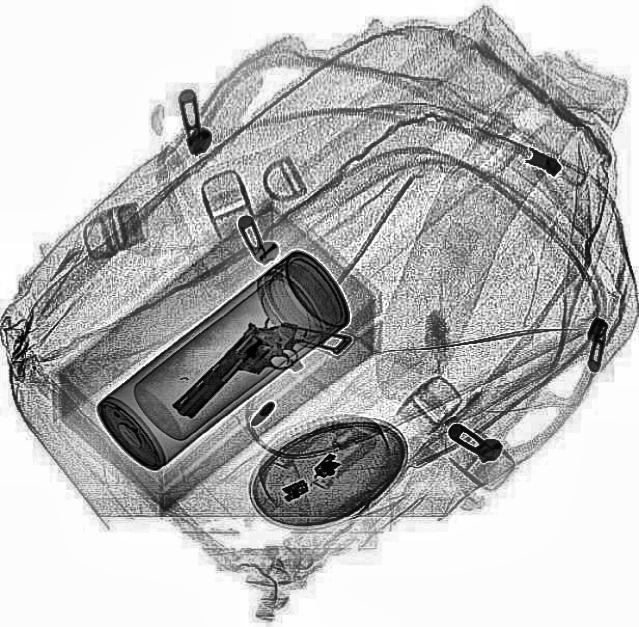Gun: (168, 286, 352, 458)
